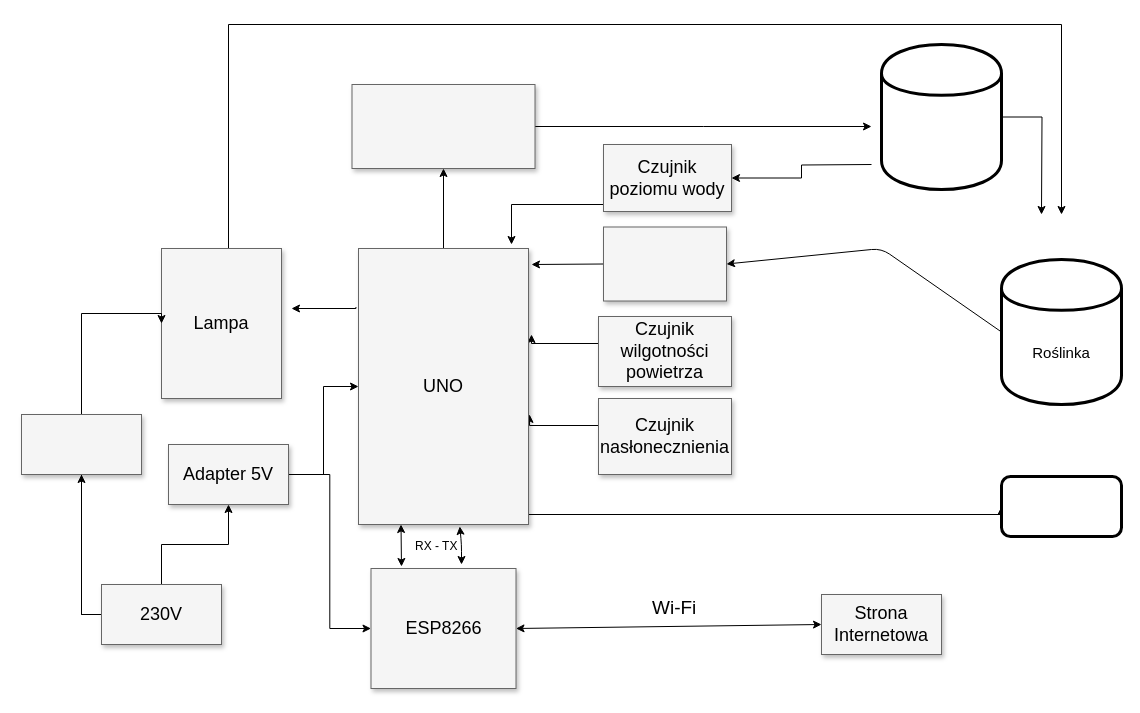
Image size: 1140x713. Some labels were removed from this diagram. Each missing label, with the centre of its shape:
Czujnik wilgotnosci gleby: (665,265)
Pompka wody: (444,128)
Regulator: (82,446)
Wyświetlacz: (1061,506)
Zbiornik wody: (941,116)
